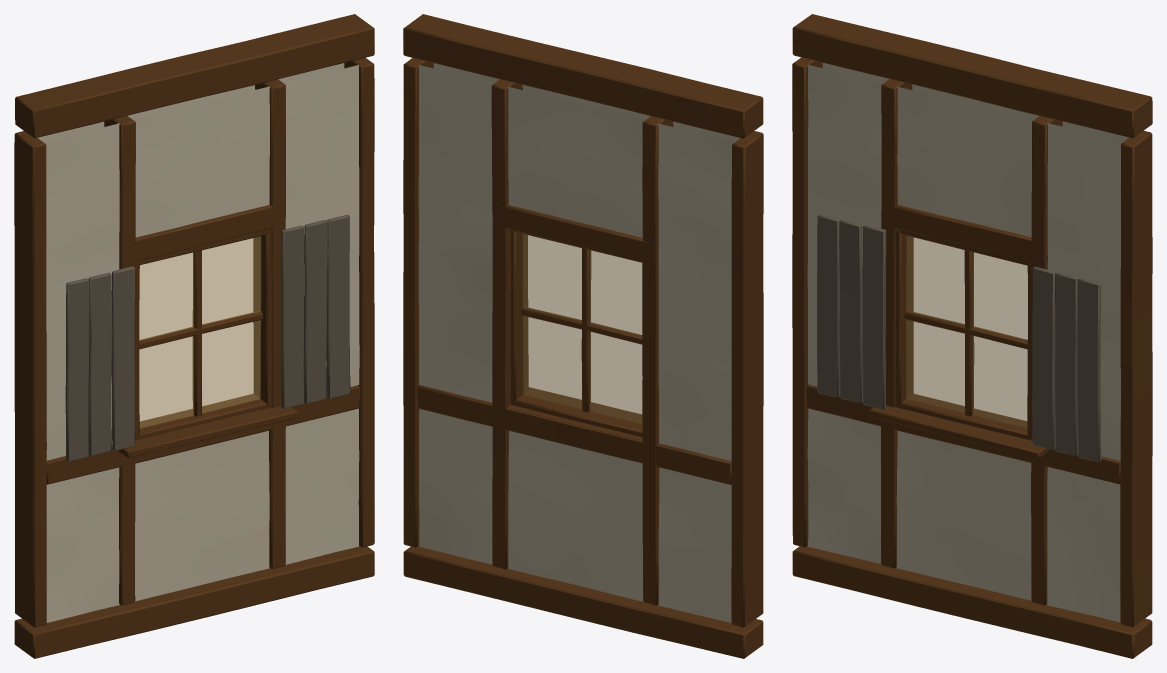
The model's file is wand_fenster.glb.
3 renders of one model, left to right at view 1: azimuth 30°, elevation 25°; view 2: azimuth 150°, elevation 25°; view 3: azimuth 330°, elevation 25°, orthographic.
Parts seen in each view (by area): view 1: wand_fenster; view 2: wand_fenster; view 3: wand_fenster.
Part boxes in pixels (x1,y1,x2,y2): wand_fenster: (14,14,374,658); wand_fenster: (403,14,763,658); wand_fenster: (792,14,1152,658).
Bounding box in the file's own units: 2 × 3.08 × 0.2938.
